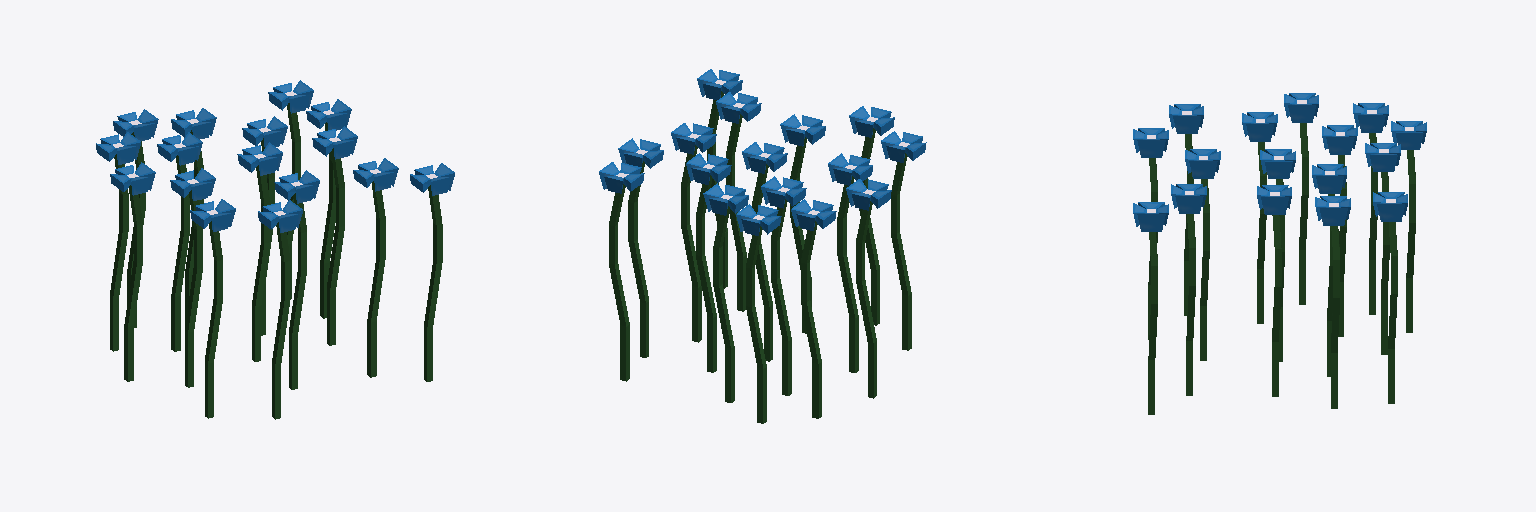
3 renders of one model, left to right at view 1: azimuth 30°, elevation 25°; view 2: azimuth 150°, elevation 25°; view 3: azimuth 270°, elevation 25°, orthographic.
Parts seen in each view (by area): view 1: Cube.011_Cube.012, Cube.016_Cube.017, Cube.013_Cube.014, Cube.014_Cube.015, Cube.006_Cube.007, Cube.010_Cube.011, Cube.007_Cube.008, Cube.008_Cube.009, Cube.003_Cube.004, Cube.001_Cube.002, Cube.009_Cube.010, Cube.012_Cube.013 (+4 smaller); view 2: Cube.004_Cube.005, Cube.015_Cube.016, Cube.009_Cube.010, Cube.005_Cube.006, Cube.010_Cube.011, Cube.008_Cube.009, Cube.016_Cube.017, Cube.002_Cube.003, Cube.003_Cube.004, Cube.006_Cube.007, Cube.012_Cube.013, Cube.011_Cube.012 (+4 smaller); view 3: Cube.014_Cube.015, Cube.012_Cube.013, Cube.011_Cube.012, Cube.016_Cube.017, Cube.005_Cube.006, Cube.006_Cube.007, Cube.015_Cube.016, Cube.007_Cube.008, Cube.004_Cube.005, Cube.009_Cube.010, Cube.008_Cube.009, Cube.003_Cube.004 (+4 smaller).
Part boxes in pixels (x1,y1,x2,y2): Cube.011_Cube.012: (353, 158, 398, 377); Cube.016_Cube.017: (110, 162, 155, 381); Cube.013_Cube.014: (258, 200, 302, 419); Cube.014_Cube.015: (410, 163, 454, 381); Cube.006_Cube.007: (312, 126, 357, 345); Cube.010_Cube.011: (190, 199, 235, 418); Cube.007_Cube.008: (274, 170, 319, 389); Cube.008_Cube.009: (170, 168, 215, 387); Cube.003_Cube.004: (157, 132, 202, 351); Cube.001_Cube.002: (237, 142, 282, 361); Cube.009_Cube.010: (96, 132, 140, 351); Cube.012_Cube.013: (306, 99, 351, 318); Cube.004_Cube.005: (703, 183, 748, 402); Cube.015_Cube.016: (736, 204, 781, 423); Cube.009_Cube.010: (791, 199, 836, 418); Cube.005_Cube.006: (599, 162, 644, 381); Cube.010_Cube.011: (881, 131, 926, 350); Cube.008_Cube.009: (828, 153, 872, 372); Cube.016_Cube.017: (846, 179, 891, 398); Cube.002_Cube.003: (686, 153, 731, 372); Cube.003_Cube.004: (761, 176, 806, 395); Cube.006_Cube.007: (671, 123, 716, 342); Cube.012_Cube.013: (618, 138, 663, 357); Cube.011_Cube.012: (716, 92, 761, 311); Cube.014_Cube.015: (1133, 202, 1168, 414); Cube.012_Cube.013: (1315, 196, 1350, 408); Cube.011_Cube.012: (1171, 184, 1206, 395); Cube.016_Cube.017: (1284, 93, 1318, 304); Cube.005_Cube.006: (1373, 192, 1407, 403); Cube.006_Cube.007: (1257, 185, 1291, 396); Cube.015_Cube.016: (1391, 121, 1426, 332); Cube.007_Cube.008: (1185, 149, 1220, 360); Cube.004_Cube.005: (1365, 143, 1400, 354); Cube.009_Cube.010: (1353, 103, 1388, 314); Cube.008_Cube.009: (1242, 112, 1277, 323); Cube.003_Cube.004: (1322, 125, 1357, 336).
Bounding box in the file's own units: 1.95 × 1.52 × 1.94.
1 materials, 1 textured.